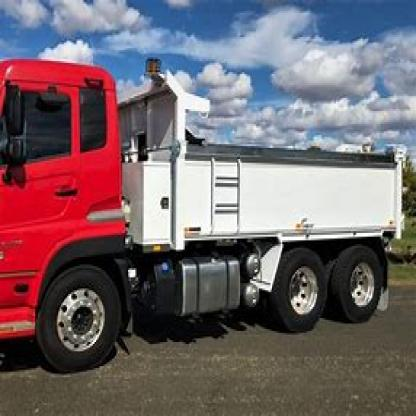dump_truck: (0, 50, 412, 384)
